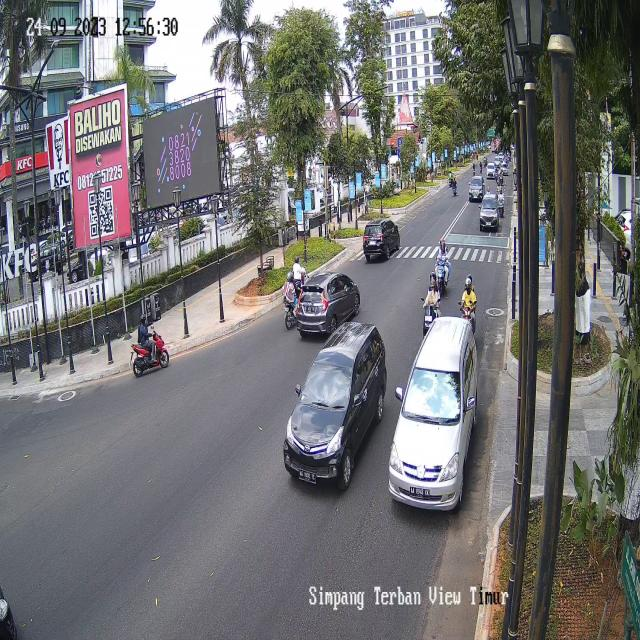car: (386, 317, 480, 517), (284, 320, 388, 495), (296, 270, 361, 335), (362, 219, 400, 262)
motorcycle: (130, 312, 170, 375), (282, 271, 306, 330), (423, 269, 440, 340), (460, 270, 477, 337), (436, 237, 451, 296), (291, 254, 310, 286)
